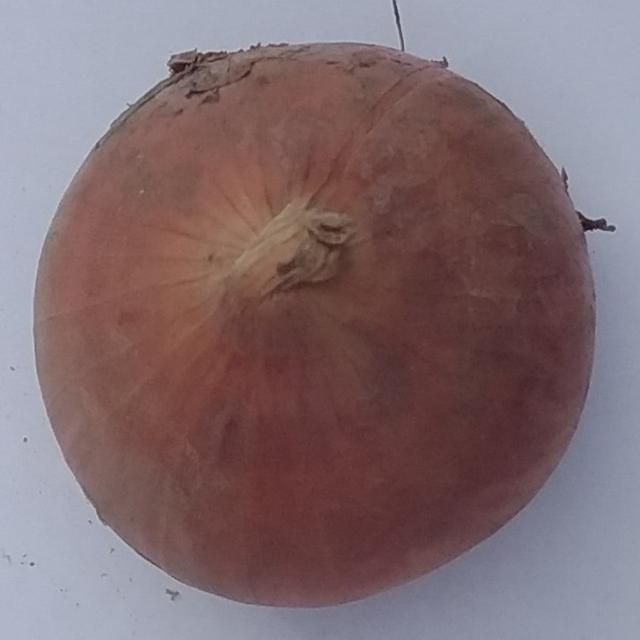onion: (32, 41, 600, 608)
